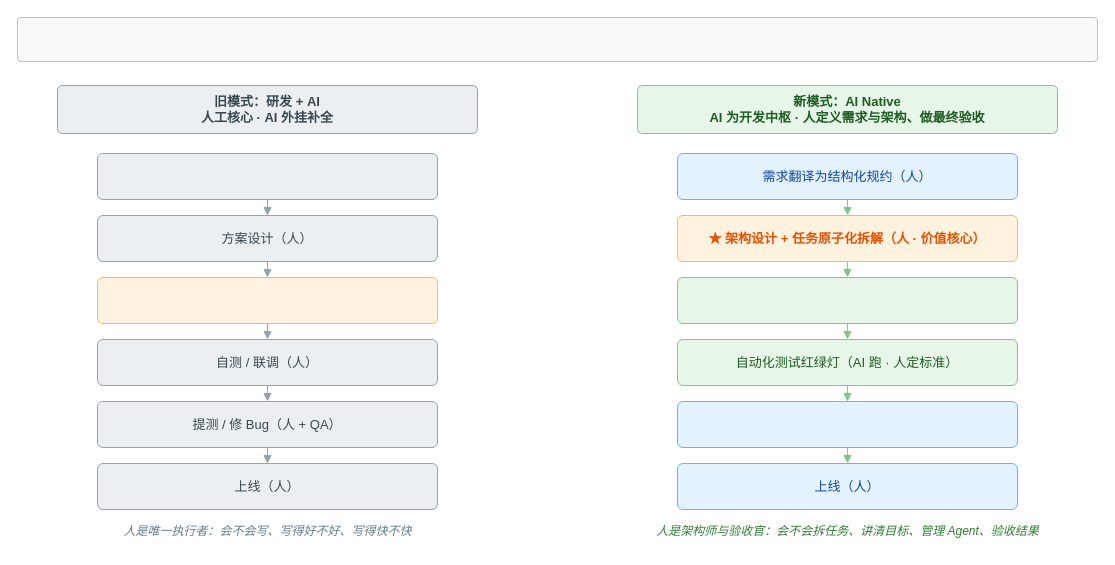
The diagram is 1115 pixels wide and 565 high, and some of its shapes have lost their labels. Here are the shapes that lost their labels. From the top down, the box of each, then its label:
(16, 16, 1098, 62): 范式跃迁：传统研发交付 → AI Native 交付
(96, 152, 438, 200): 需求理解（人）
(96, 276, 438, 324): ★ 编码实现（人 · 价值核心）
(676, 276, 1018, 324): 多 Agent 并行执行：模块代码 · 单测 · 文档（AI）
(676, 400, 1018, 448): 人工审查 + 验收（人 · 不可省略）
